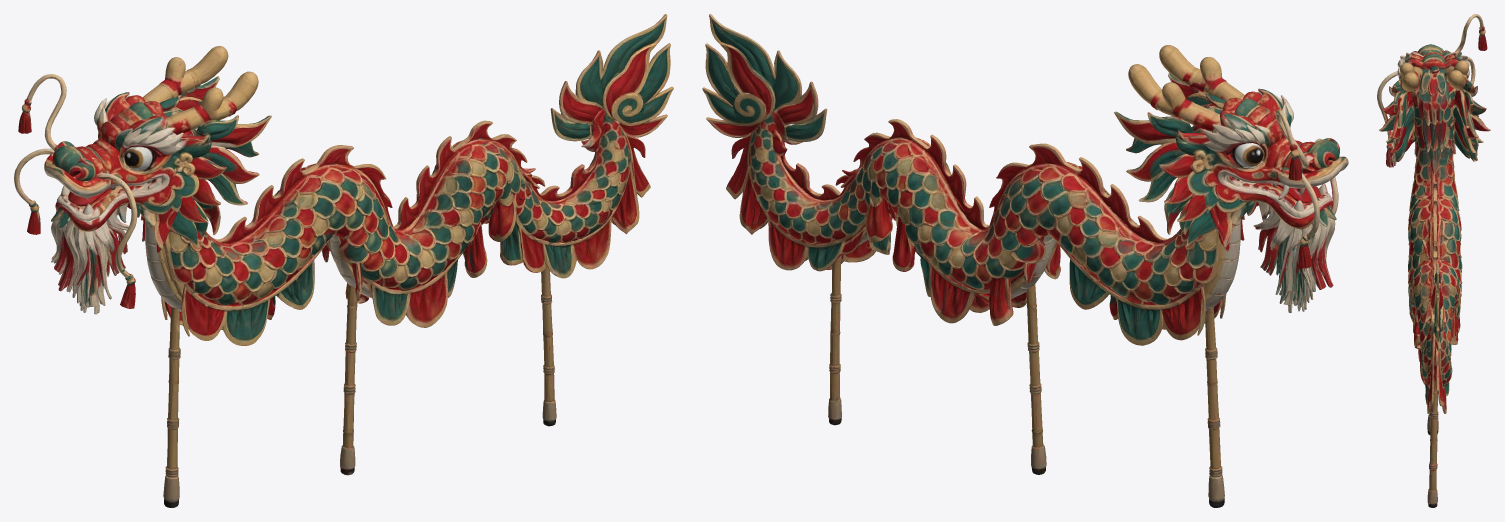
The model's file is dragon.glb.
3 renders of one model, left to right at view 1: azimuth 30°, elevation 25°; view 2: azimuth 150°, elevation 25°; view 3: azimuth 270°, elevation 25°, orthographic. The views are drawn at different scales.
Visible parts, largest first — view 1: Mesh_0; view 2: Mesh_0; view 3: Mesh_0.
Part boxes in pixels (x1=…): Mesh_0: x1=14, y1=14, x2=673, y2=507; Mesh_0: x1=702, y1=14, x2=1348, y2=507; Mesh_0: x1=1377, y1=14, x2=1490, y2=507.
Bounding box in the file's own units: 1.9 × 1.27 × 0.4039.
1 material, 1 textured.
